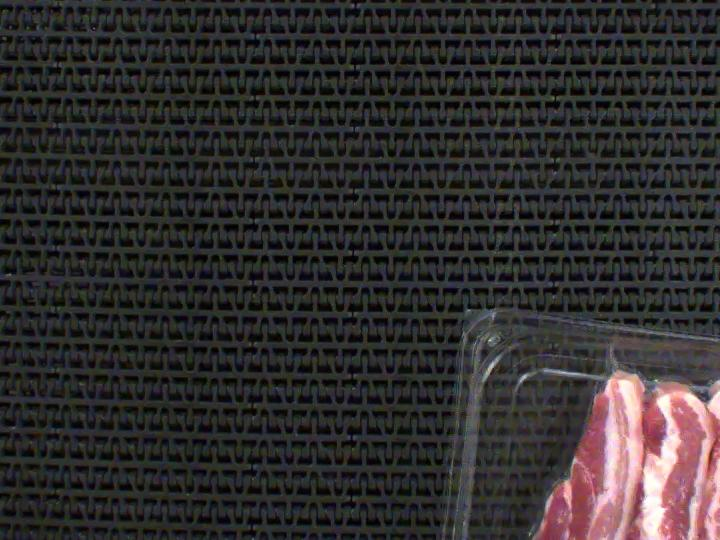packaging-error: (597, 339, 635, 385)
unsealed: (521, 343, 720, 540)
